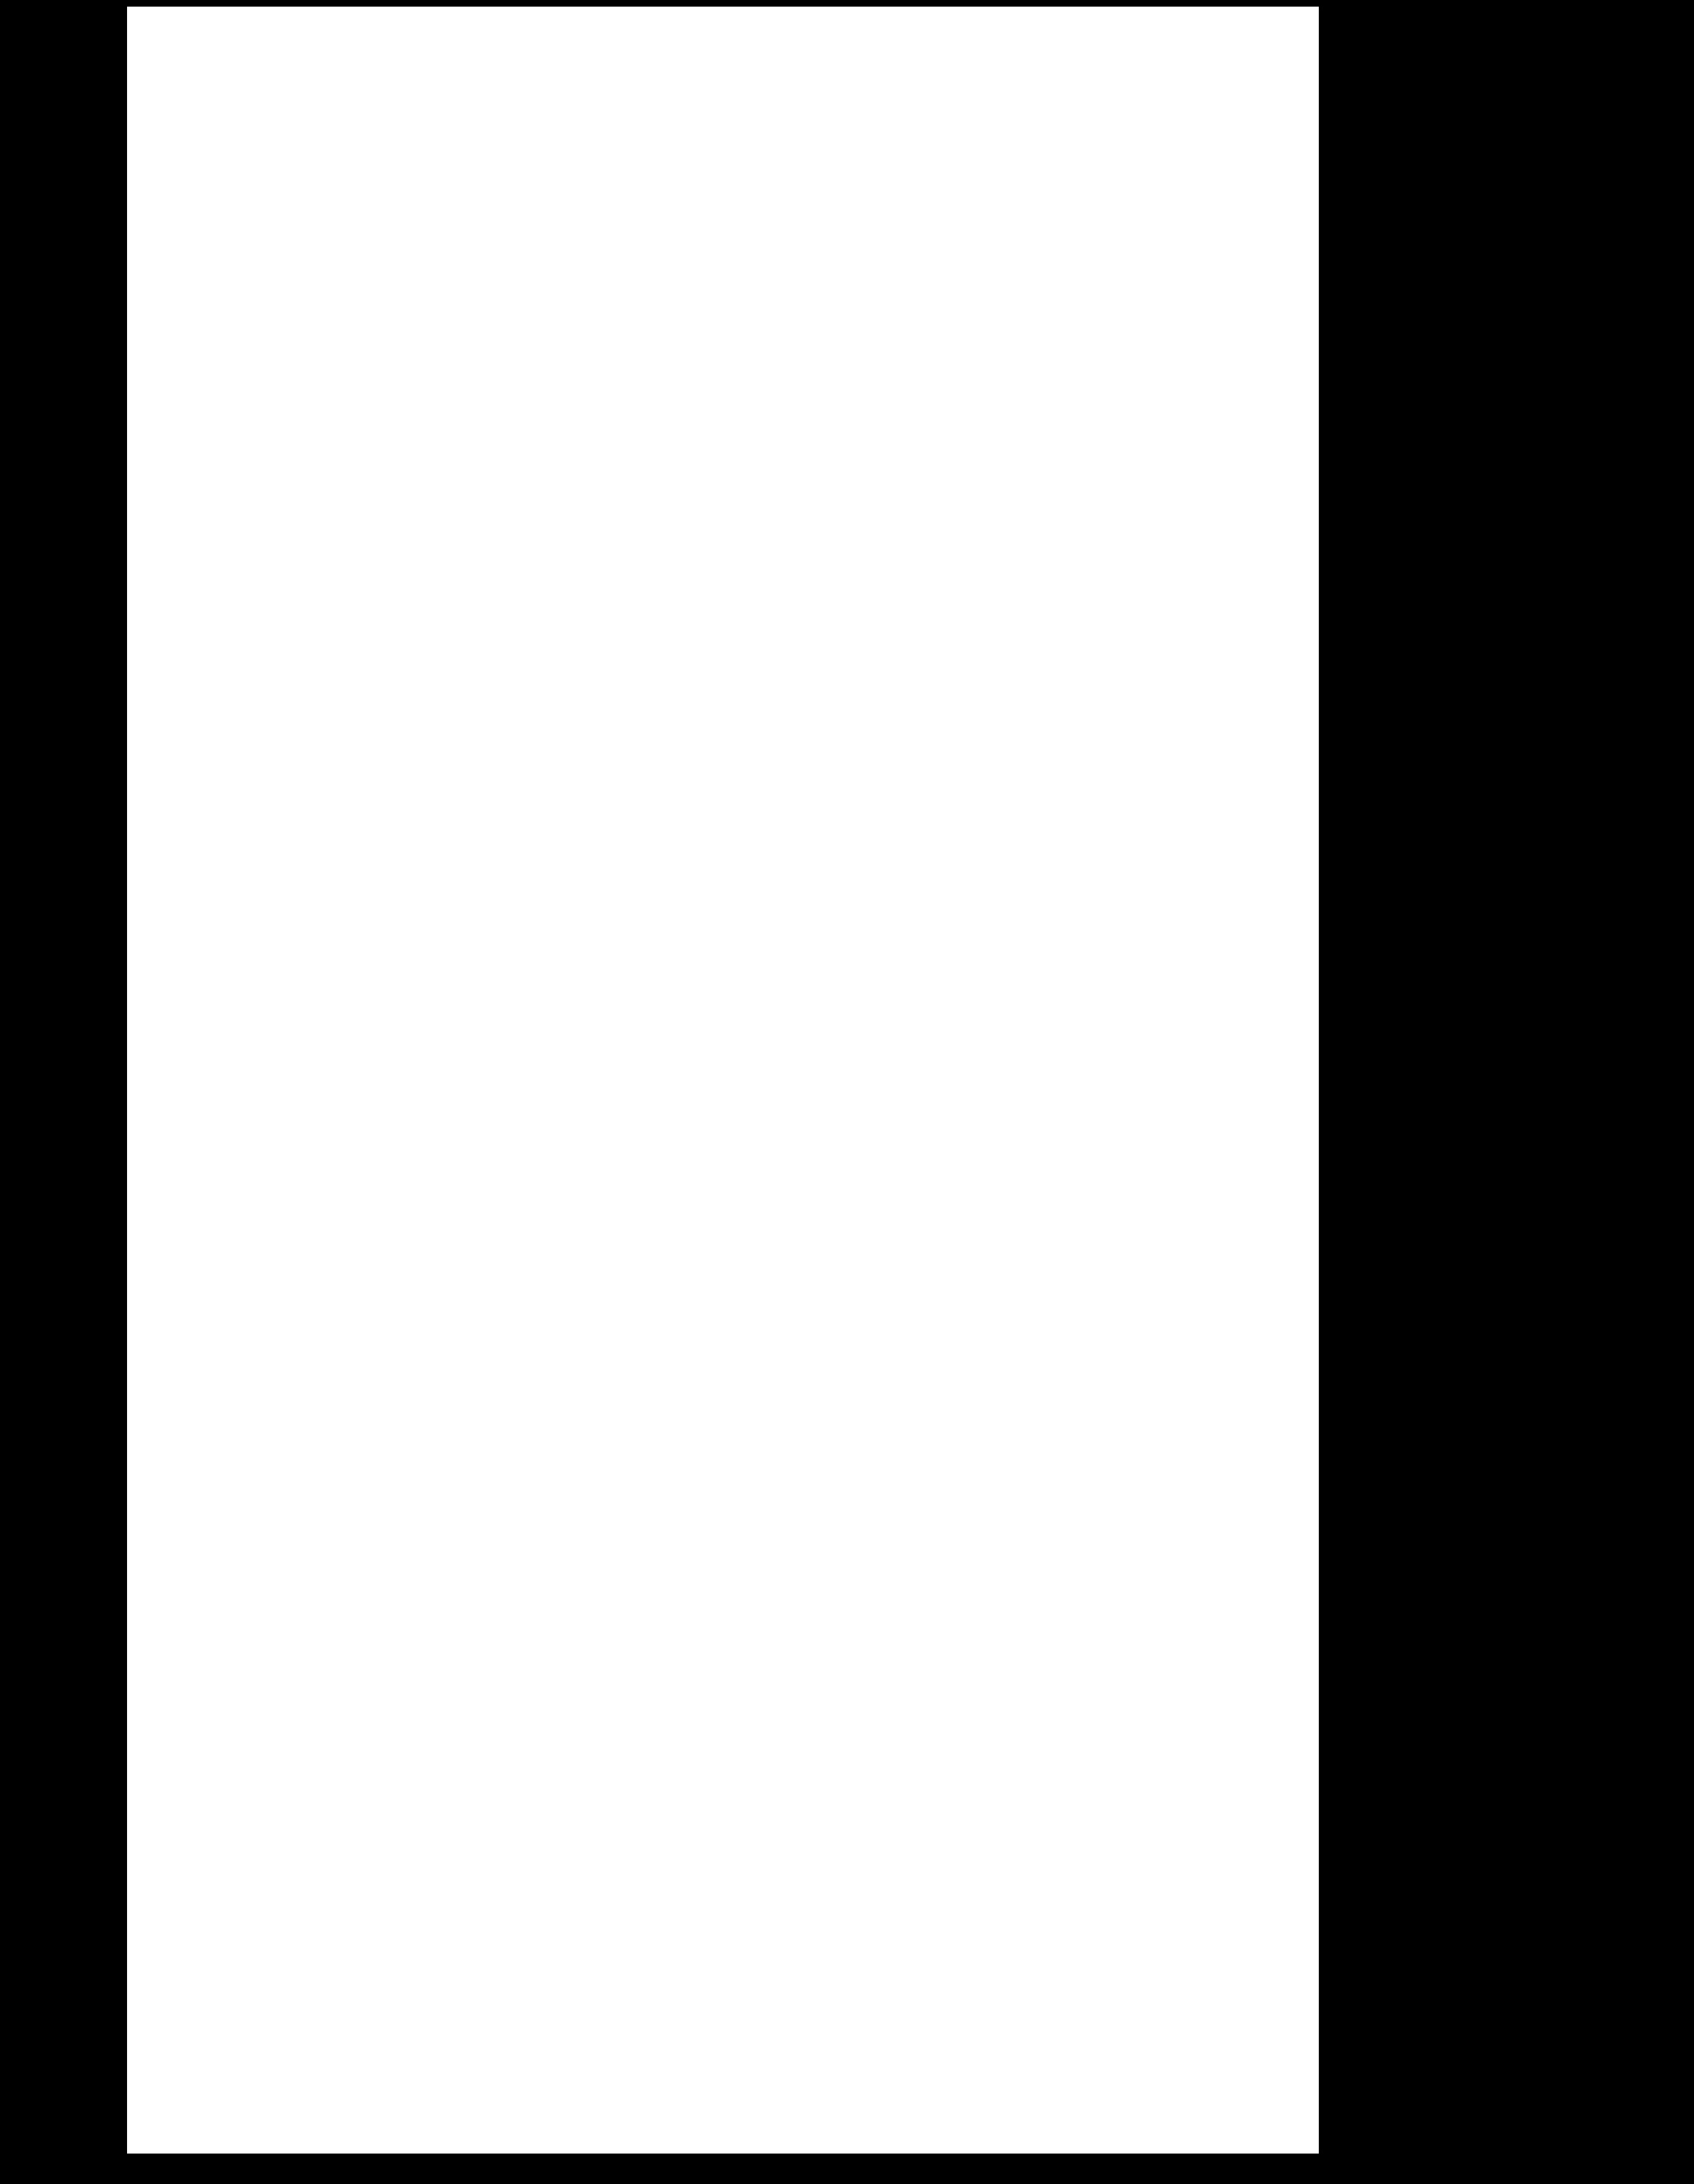table: (128, 7, 1318, 2152)
